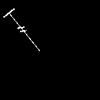treble_crochet: (4, 9, 39, 50)
